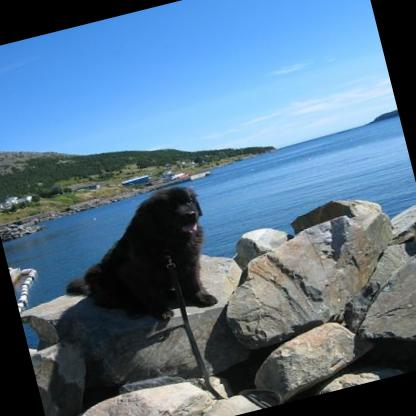Newfoundland: (46, 181, 226, 340)
